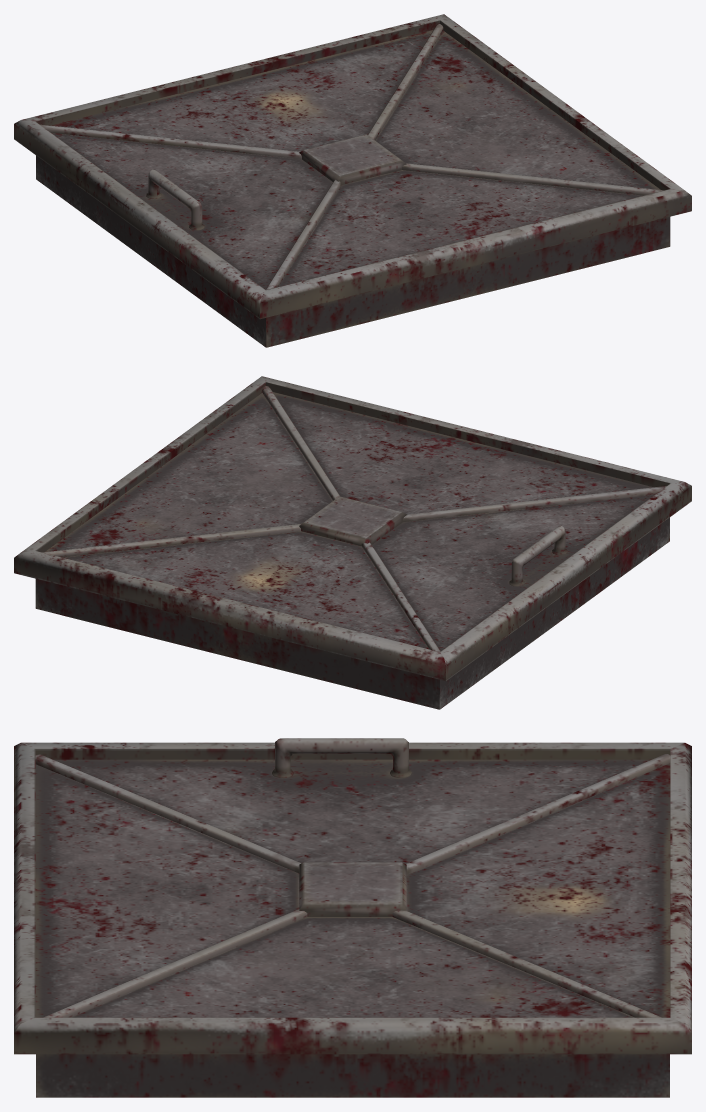
Rendered from Manhole Cover.fbx.
3 views of the same model, one above another, from view 1: azimuth 30°, elevation 25°; view 2: azimuth 150°, elevation 25°; view 3: azimuth 270°, elevation 25° (orthographic). The views are drawn at different scales.
Visible parts, largest first — view 1: ManholeDown; view 2: ManholeDown; view 3: ManholeDown.
Boxes of the visible parts, x1,y1,x2,y2 form: ManholeDown: [14, 14, 691, 347]; ManholeDown: [14, 376, 691, 709]; ManholeDown: [14, 738, 691, 1097].
Bounding box in the file's own units: 142 × 27.52 × 140.
